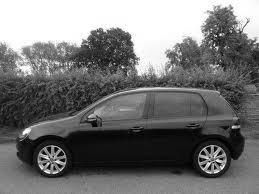car: (15, 88, 247, 179)
